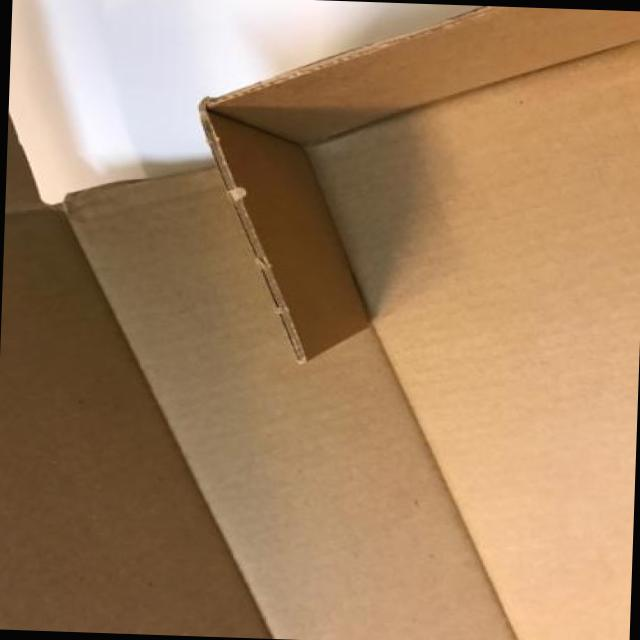cardboard: (202, 9, 639, 639), (65, 168, 514, 639), (308, 42, 639, 639), (200, 6, 639, 359), (0, 128, 269, 638), (205, 6, 639, 142), (206, 114, 367, 360)
